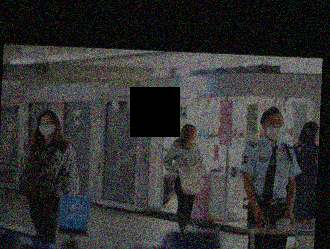mask_weared_incorrect: (263, 116, 284, 141)
with_mask: (37, 120, 57, 138)
